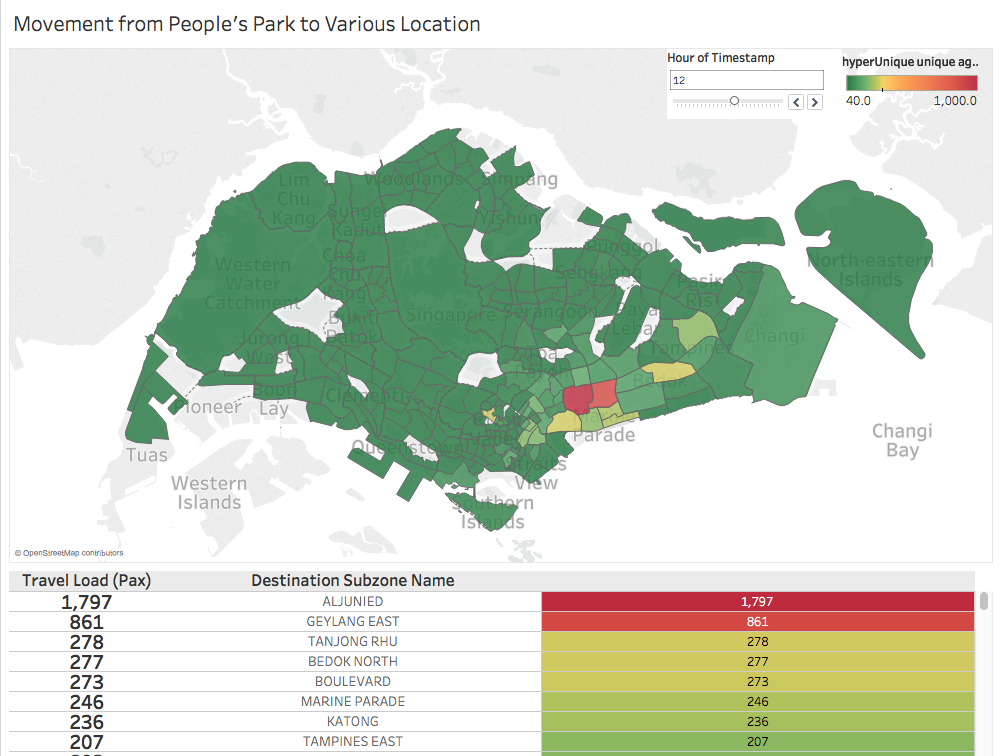

The page's visual inventory and layout, read from the dashboard file:
{"tool":"tableau","page":{"name":"Material 1","canvas":[1000,800],"ordinal":1},"visuals":[{"type":"worksheet","title":"Sheet 1","mark":"Automatic","box":[0,0,1000,570]},{"type":"legend","title":"Sheet 1","param":"[federated.1f0shse0h87hvx100qxak1np49i4].[sum:hyperUnique_unique_agents:qk]","box":[841,56,140,76]},{"type":"filter","title":"Sheet 1","param":"[federated.1f0shse0h87hvx100qxak1np49i4].[hr:timestamp:ok]","box":[811,407,160,70]},{"type":"worksheet","title":"Sheet 2","mark":"Square","rows":["Calculation_2835719691756163072","destination_subzone_name"],"box":[0,570,500,230]},{"type":"worksheet","title":"Sheet 9","mark":"Automatic","rows":["hyperUnique_unique_agents"],"cols":["timestamp"],"box":[500,570,500,230]},{"type":"filter","title":"Sheet 9","param":"[federated.1f0shse0h87hvx100qxak1np49i4].[none:destination_subzone_name:nk]","box":[553,574,120,51]}]}

Visuals, with their boxes on the page's 1000x800 design canvas (x1, y1, x2, y2). These are canvas units, not pixel positions in the 1001x756 screenshot, which may show the page scaled, cropped or inside an application window:
"Sheet 1" worksheet: Rect(0, 0, 1000, 570)
"Sheet 1" legend: Rect(841, 56, 981, 132)
"Sheet 1" filter: Rect(811, 407, 971, 477)
"Sheet 2" worksheet (Square marks): Rect(0, 570, 500, 800)
"Sheet 9" worksheet: Rect(500, 570, 1000, 800)
"Sheet 9" filter: Rect(553, 574, 673, 625)
